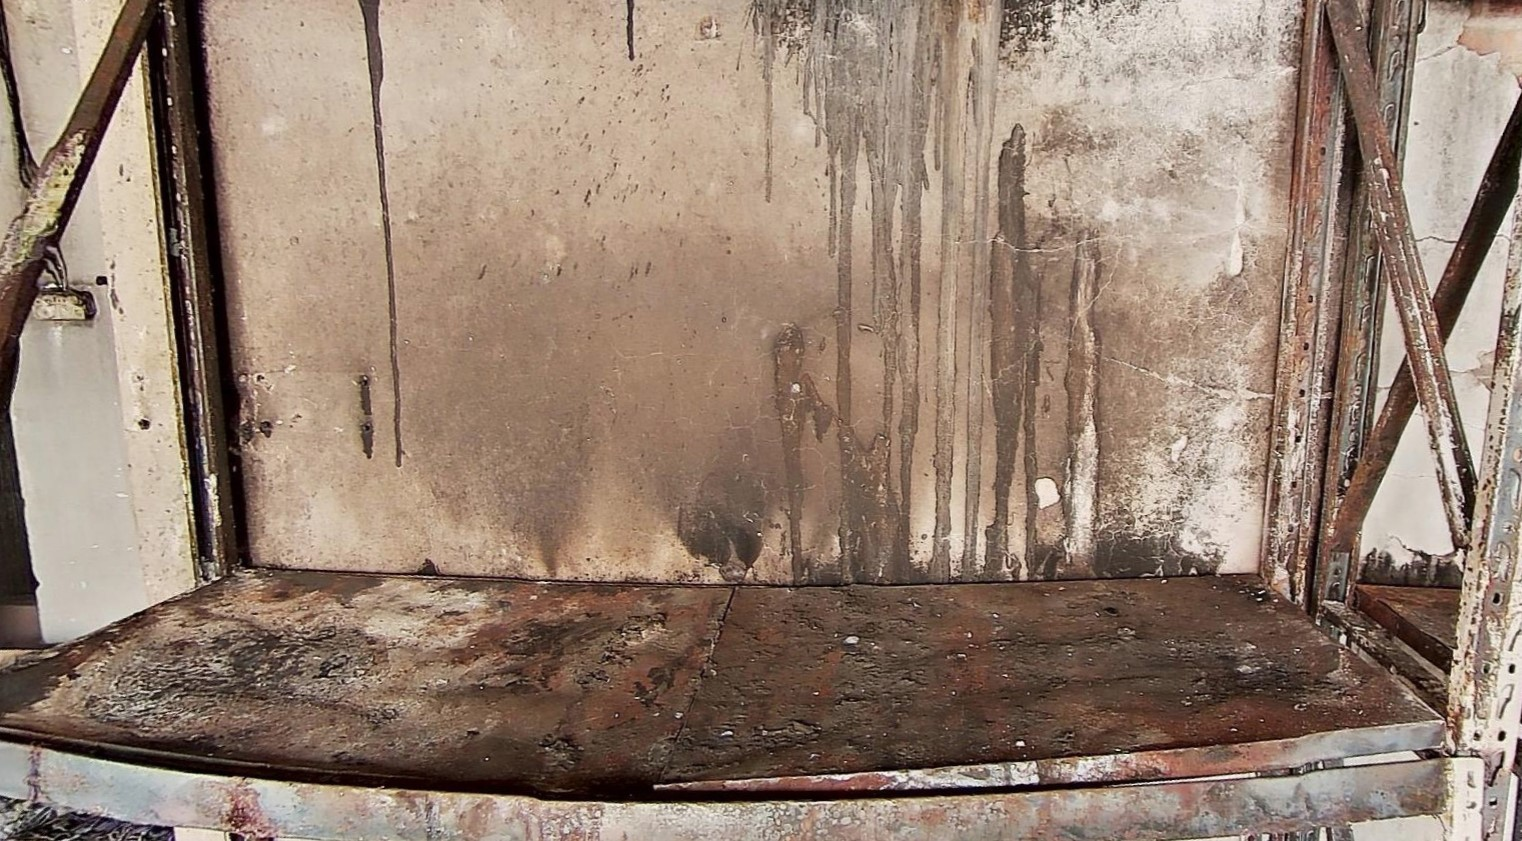Damage_level1: (283, 222, 772, 561), (1407, 55, 1486, 194), (1362, 531, 1465, 591), (26, 329, 97, 378)
Damage_level2: (982, 47, 1290, 289), (980, 329, 1262, 569), (365, 28, 758, 190)
